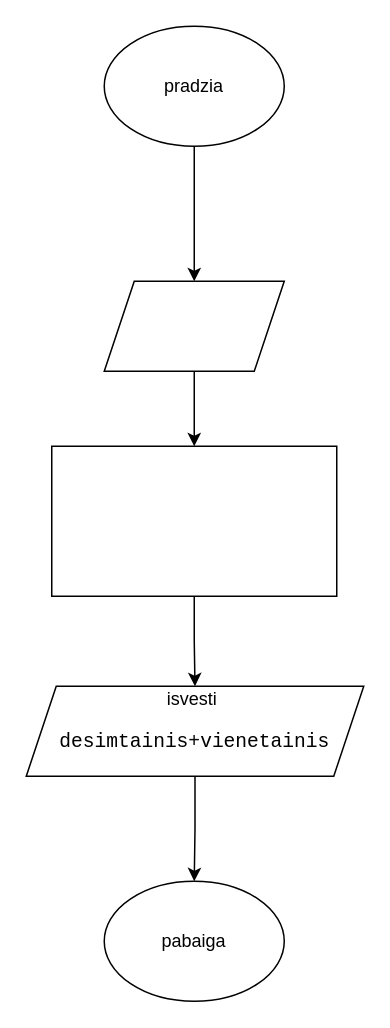
Image size: 390x1028. Some labels were removed from this diagram. The shapes that lost their labels are listed below. From the top down, each one's box as (x1, y1, x2, y2) in pixels, then its label:
(103, 280, 284, 371): ivesti sk
(50, 445, 337, 596): desimtainis = sk / 10 vienetainis = sk % 10
